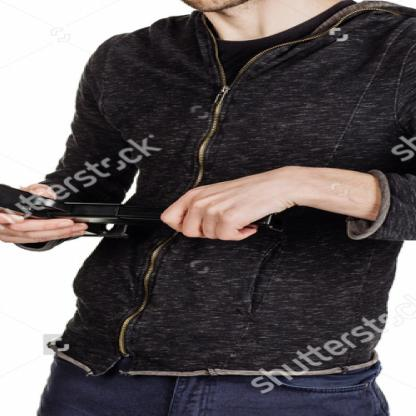gun: (0, 175, 139, 245)
